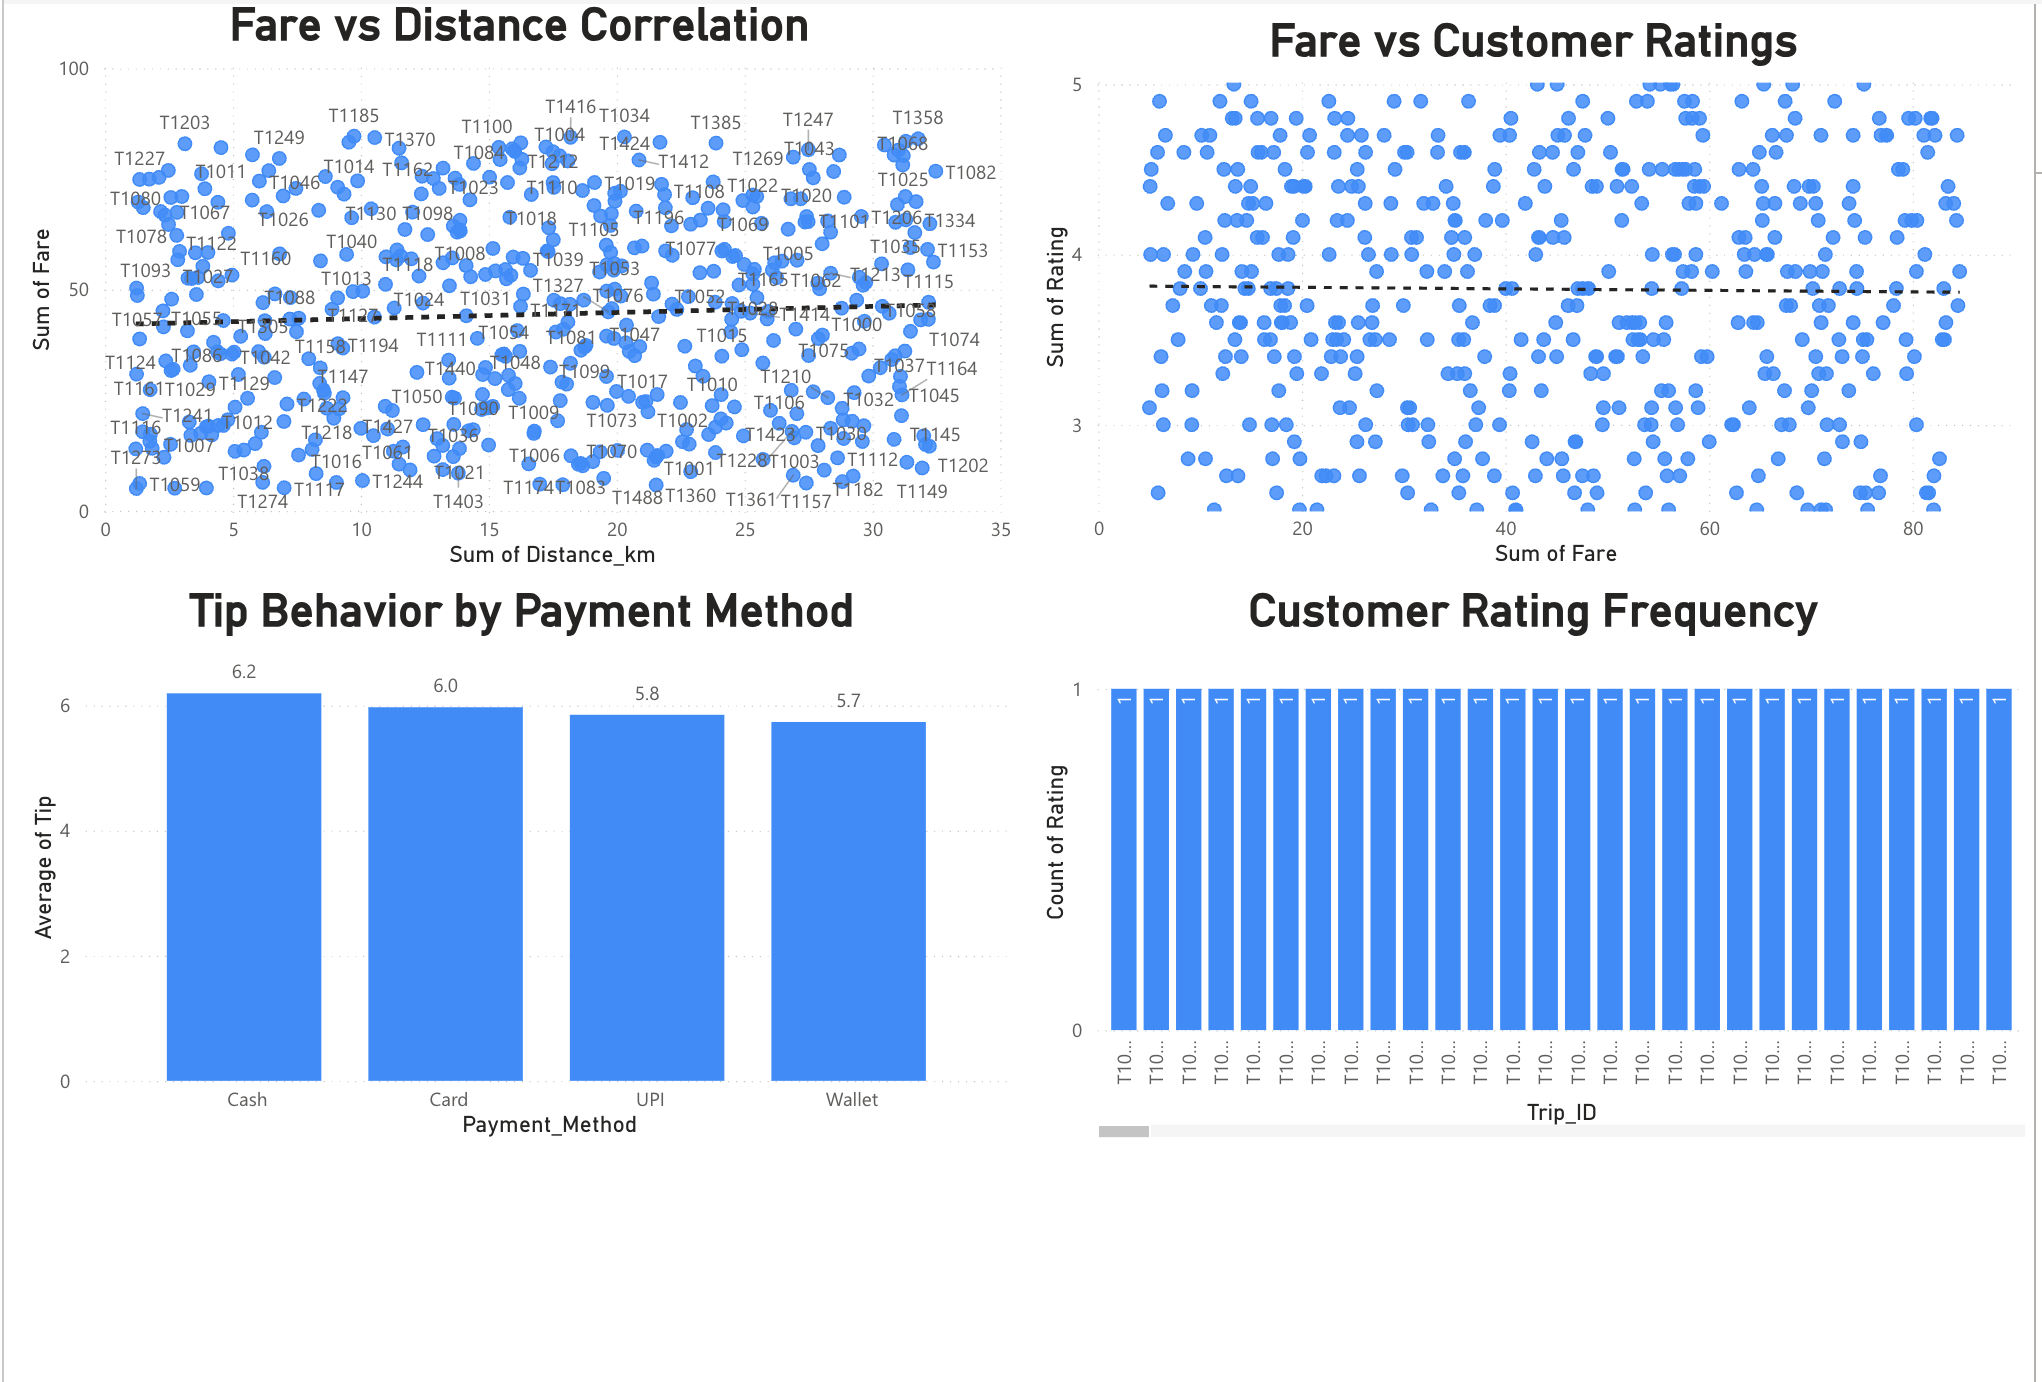

This screenshot's page, from the dashboard's own definition file:
{"tool":"powerbi","page":{"name":"Customer Behavior Insights","canvas":[1280,720],"ordinal":3},"visuals":[{"type":"scatterChart","title":"Fare vs Distance Correlation","fields":{"X":["Sum(RideSharing_Dataset.Distance_km)"],"Y":["Sum(RideSharing_Dataset.Fare)"],"Category":["RideSharing_Dataset.Trip_ID"]},"box":[10.7,0,630.1,360.1],"z":0},{"type":"scatterChart","title":"Fare vs Customer Ratings","fields":{"X":["Sum(RideSharing_Dataset.Fare)"],"Y":["Sum(RideSharing_Dataset.Rating)"],"Category":["RideSharing_Dataset.Trip_ID"]},"box":[649.9,10.7,630.1,349.4],"z":1},{"type":"clusteredColumnChart","title":"Tip Behavior by Payment Method","fields":{"Category":["RideSharing_Dataset.Payment_Method"],"Y":["Avg(RideSharing_Dataset.Tip)"]},"box":[11,370,630,350],"z":2},{"type":"clusteredColumnChart","title":"Customer Rating Frequency","fields":{"Y":["CountNonNull(RideSharing_Dataset.Rating)"],"Category":["RideSharing_Dataset.Trip_ID"]},"box":[650,370,630,350],"z":3}]}

Visuals, with their boxes on the page's 1280x720 design canvas (x1, y1, x2, y2). These are canvas units, not pixel positions in the 2042x1382 screenshot, which may show the page scaled, cropped or inside an application window:
"Fare vs Distance Correlation" scatterChart: 11 0 641 360
"Fare vs Customer Ratings" scatterChart: 650 11 1280 360
"Tip Behavior by Payment Method" clusteredColumnChart: 11 370 641 720
"Customer Rating Frequency" clusteredColumnChart: 650 370 1280 720
